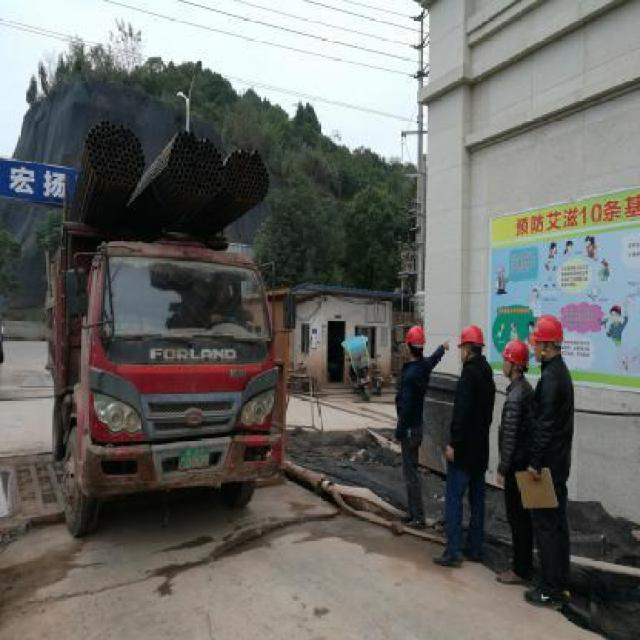Dump Truck: (38, 222, 296, 542)
